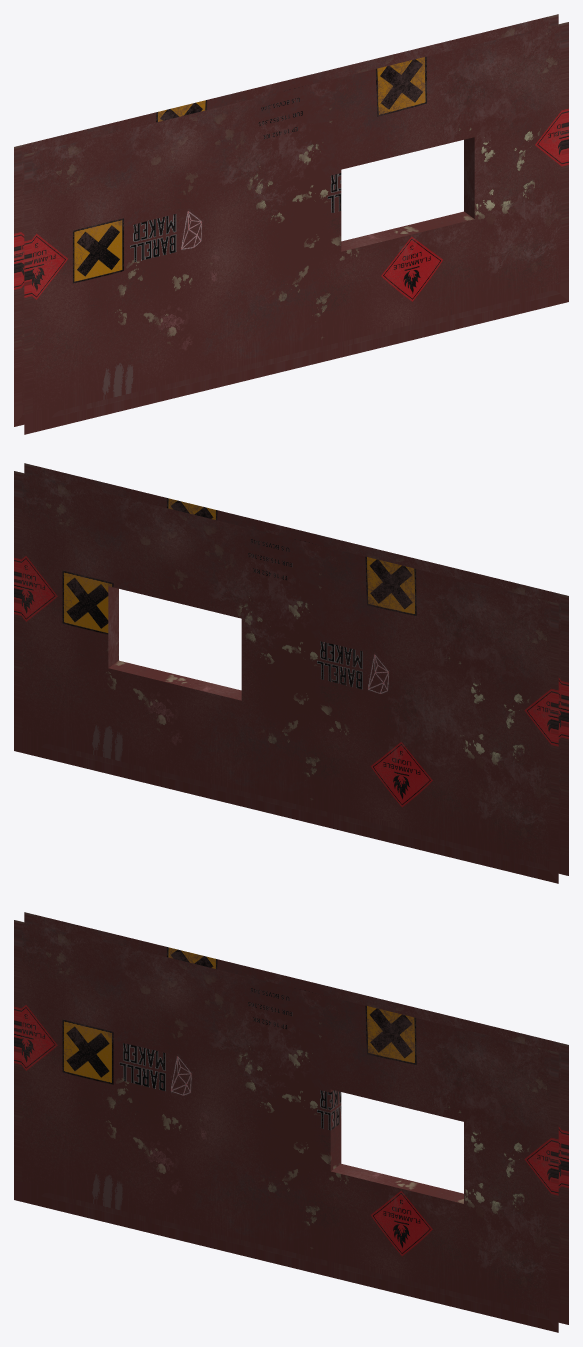
The model's file is CS_wall_window.FBX.
3 views of the same model, one above another, from view 1: azimuth 30°, elevation 25°; view 2: azimuth 150°, elevation 25°; view 3: azimuth 330°, elevation 25° (orthographic).
Visible parts, largest first — view 1: SM_wall_widow; view 2: SM_wall_widow; view 3: SM_wall_widow.
Part boxes in pixels (bbox=[...]): SM_wall_widow: bbox=[14, 14, 568, 434]; SM_wall_widow: bbox=[14, 463, 568, 883]; SM_wall_widow: bbox=[14, 912, 568, 1332].
Size of the model in its own units: 600 by 20 by 295.
